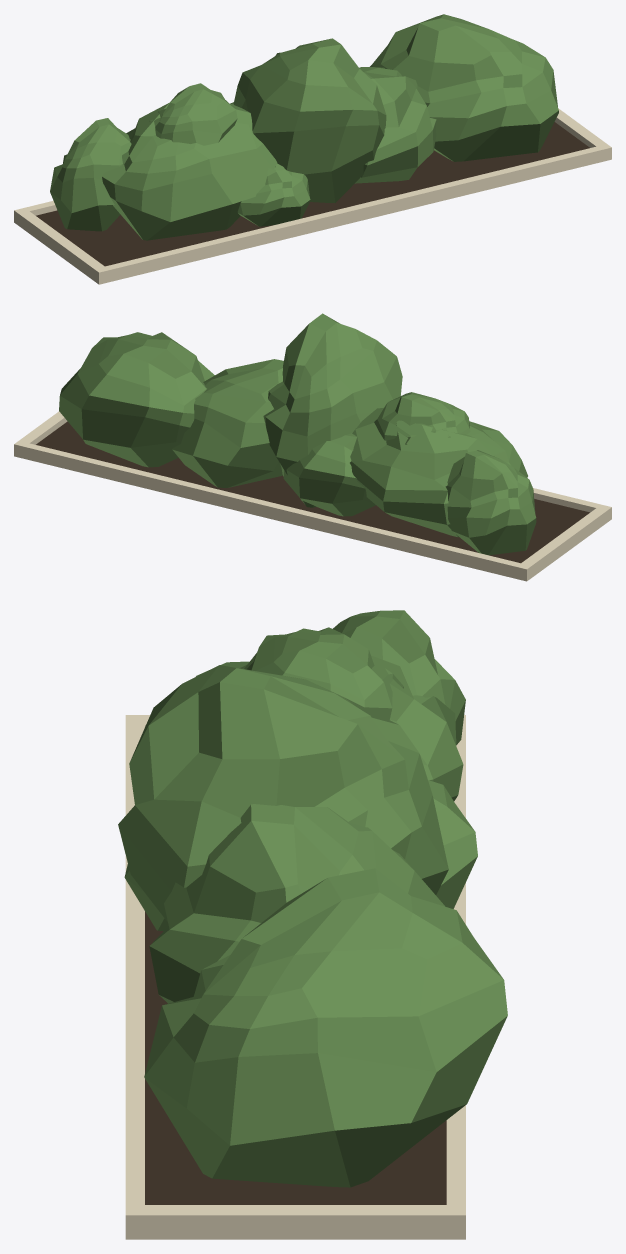
Rendered from LongBushes.fbx.
3 renders of one model, top to bottom at view 1: azimuth 30°, elevation 25°; view 2: azimuth 150°, elevation 25°; view 3: azimuth 270°, elevation 25°, orthographic. The views are drawn at different scales.
Parts seen in each view (by area): view 1: pCube29, pCube30, pCube32, pCube33, pCube35, pCube31, pCube37, pCube34; view 2: pCube29, pCube30, pCube32, pCube33, pCube31, pCube35, pCube36, pCube37; view 3: pCube30, pCube32, pCube29, pCube31, pCube37, pCube35, pCube33, pCube36.
Part boxes in pixels (x1,y1,x2,y2): pCube29: [14, 108, 611, 284]; pCube30: [370, 14, 558, 161]; pCube32: [233, 38, 386, 203]; pCube33: [102, 102, 277, 240]; pCube35: [50, 118, 131, 231]; pCube31: [355, 67, 436, 183]; pCube37: [149, 83, 237, 145]; pCube34: [237, 163, 310, 226]; pCube29: [14, 411, 611, 581]; pCube30: [59, 332, 214, 467]; pCube32: [263, 313, 402, 507]; pCube33: [350, 408, 527, 537]; pCube31: [172, 359, 283, 488]; pCube35: [445, 450, 536, 555]; pCube36: [283, 433, 375, 516]; pCube37: [374, 392, 470, 444]; pCube30: [144, 868, 507, 1187]; pCube32: [118, 665, 448, 921]; pCube29: [125, 715, 465, 1239]; pCube31: [149, 804, 444, 1003]; pCube37: [244, 627, 403, 719]; pCube35: [333, 610, 465, 744]; pCube33: [196, 655, 463, 801]; pCube36: [428, 780, 477, 908].
Size of the model in its own units: 0.4931 by 0.1454 by 0.1623.
